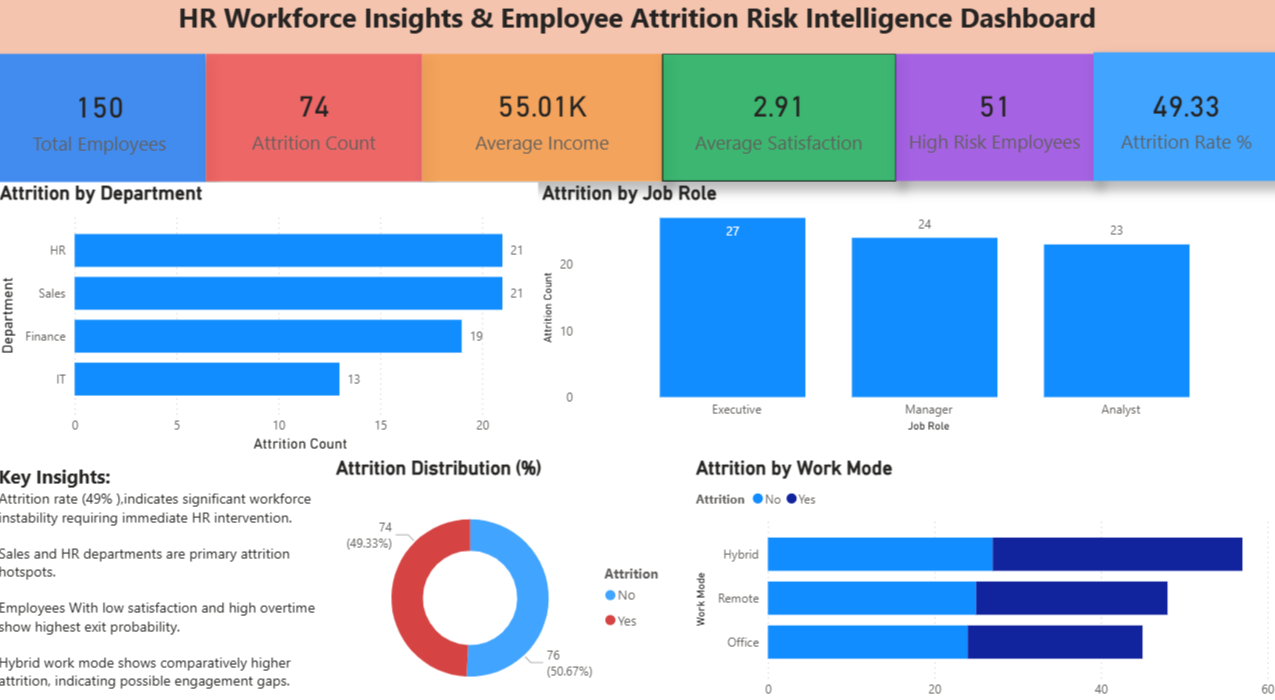

What the dashboard file says about the page in this screenshot:
{"tool":"powerbi","page":{"name":"Executive_Summary","canvas":[1280,720],"ordinal":0},"visuals":[{"type":"card","fields":{"Values":["HR_Data.Total Employees"]},"box":[0,59.7,211.5,128.1],"z":0},{"type":"card","fields":{"Values":["HR_Data.Attrition Count"]},"box":[211.5,59.7,248.8,126.9],"z":1000},{"type":"card","fields":{"Values":["HR_Data.Average Income"]},"box":[460.3,59.7,258.7,126.9],"z":2000},{"type":"card","fields":{"Values":["HR_Data.Average Satisfaction"]},"box":[706.6,59.7,240.1,126.9],"z":3000},{"type":"card","fields":{"Values":["HR_Data.High Risk Employees"]},"box":[946.7,58.5,182.9,128.1],"z":4000},{"type":"clusteredBarChart","title":"Attrition by Department","fields":{"Category":["HR_Data.Department"],"Y":["HR_Data.Attrition Count"]},"box":[1.2,187.8,541.1,273.7],"z":5000},{"type":"clusteredColumnChart","title":"Attrition by Job Role","fields":{"Y":["HR_Data.Attrition Count"],"Category":["HR_Data.Job Role"]},"box":[541.1,187.8,738.9,253.8],"z":6000},{"type":"donutChart","title":"Attrition Distribution (%)","fields":{"Category":["HR_Data.Attrition"],"Y":["CountNonNull(HR_Data.Employee ID)"]},"box":[335.9,461.5,348.3,258.7],"z":7000},{"type":"barChart","title":"Attrition by Work Mode","fields":{"Category":["HR_Data.Work Mode"],"Series":["HR_Data.Attrition"],"Y":["CountNonNull(HR_Data.Employee ID)"]},"box":[694.1,461.5,585.9,258.7],"z":8000},{"type":"textbox","box":[1.2,0,1278.8,59.7],"z":9000},{"type":"card","fields":{"Values":["HR_Data.Attrition Rate %"]},"box":[1129.5,58.5,150.5,128.1],"z":10000},{"type":"textbox","box":[1,462,260,258],"z":11000},{"type":"textbox","box":[0,462.8,334.6,257.5],"z":12000}]}

Visuals, with their boxes in screenshot pixels (x1, y1, x2, y2), scaled from the page's 1280x720 canvas onto the 1275x700 screenshot:
card - HR_Data.Total Employees: 0, 58, 211, 183
card - HR_Data.Attrition Count: 211, 58, 459, 181
card - HR_Data.Average Income: 459, 58, 716, 181
card - HR_Data.Average Satisfaction: 704, 58, 943, 181
card - HR_Data.High Risk Employees: 943, 57, 1125, 181
"Attrition by Department" clusteredBarChart: 1, 183, 540, 449
"Attrition by Job Role" clusteredColumnChart: 539, 183, 1274, 429
"Attrition Distribution (%)" donutChart: 335, 449, 682, 699
"Attrition by Work Mode" barChart: 691, 449, 1274, 699
textbox: 1, 0, 1274, 58
card - HR_Data.Attrition Rate %: 1125, 57, 1274, 181
textbox: 1, 449, 260, 699
textbox: 0, 450, 333, 699
